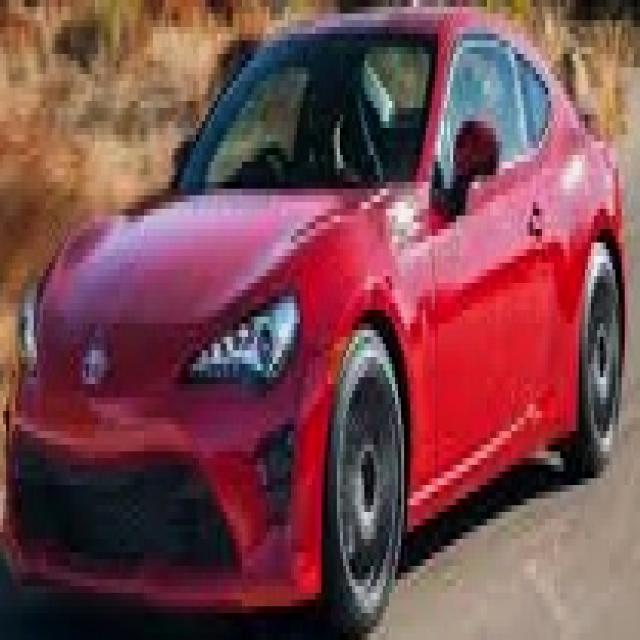red: (0, 0, 624, 640)
